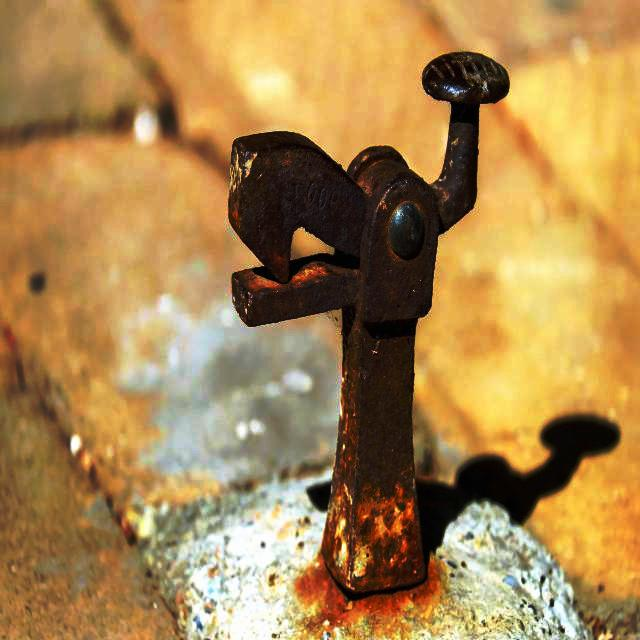Corrosion: (228, 53, 511, 594)
